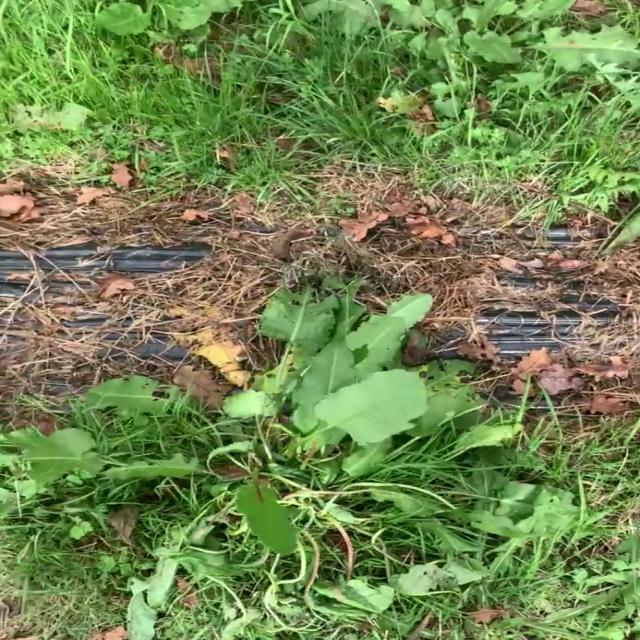organic waste: (20, 275, 572, 640), (365, 0, 640, 108), (62, 0, 295, 59)
